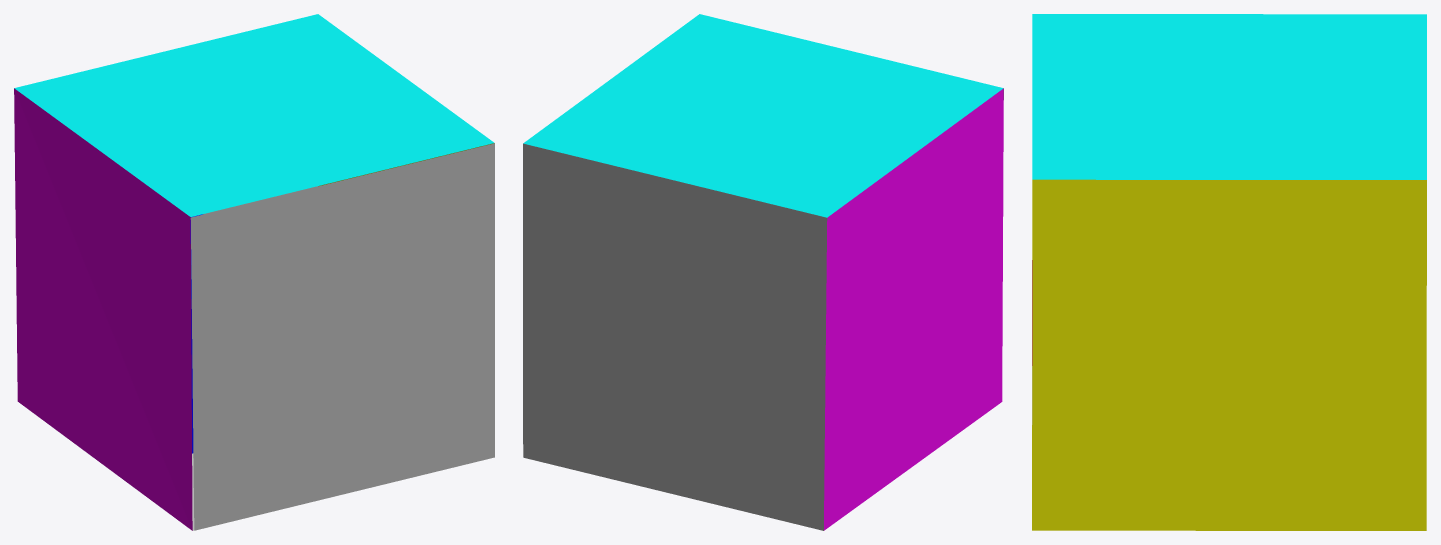
Rendered from cornell-box-with-front-wall.obj.
The picture shows the model from 3 angles, left to right: view 1: azimuth 30°, elevation 25°; view 2: azimuth 150°, elevation 25°; view 3: azimuth 270°, elevation 25°; orthographic projection. The views are drawn at different scales.
Parts seen in each view (by area): view 1: front_wall, left_wall, ceiling; view 2: back_wall, left_wall, ceiling; view 3: right_wall, ceiling.
Boxes of the visible parts, bbox=[...] form: front_wall: bbox=[190, 143, 494, 530]; left_wall: bbox=[14, 88, 192, 530]; ceiling: bbox=[14, 14, 494, 216]; back_wall: bbox=[523, 143, 827, 530]; left_wall: bbox=[824, 88, 1003, 530]; ceiling: bbox=[523, 14, 1003, 217]; right_wall: bbox=[1032, 179, 1426, 530]; ceiling: bbox=[1032, 14, 1426, 179].
Bounding box in the file's own units: 5.56 × 5.49 × 5.6.
